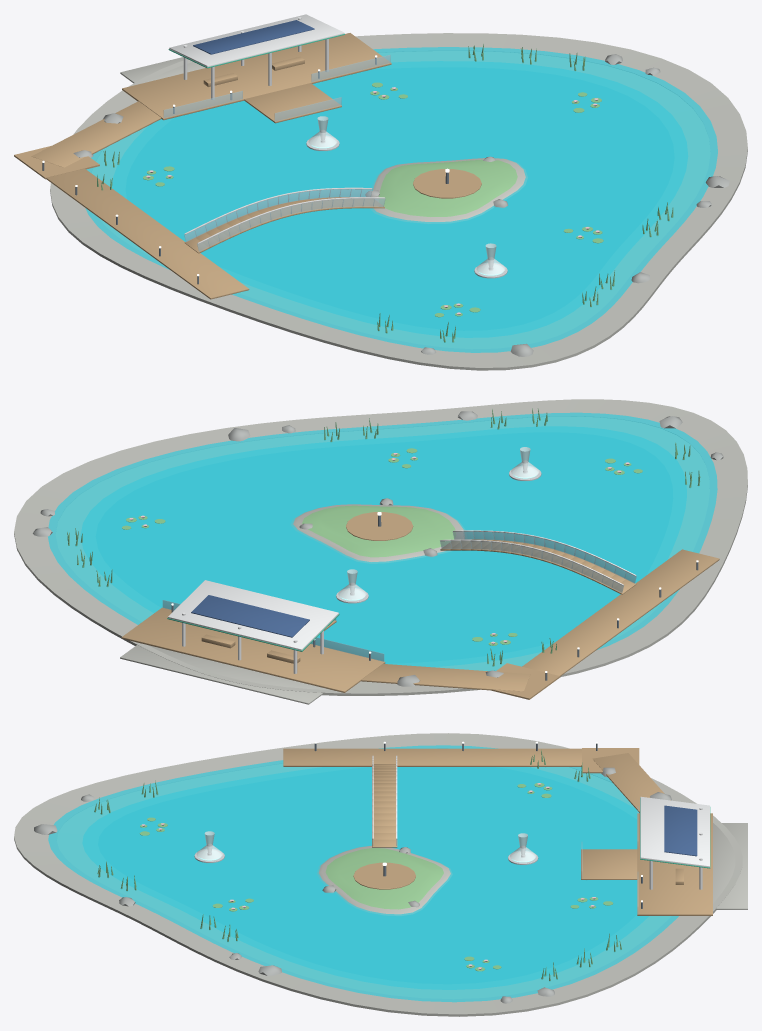
Rendered from west_lake_park.glb.
The picture shows the model from 3 angles, top to bottom: view 1: azimuth 30°, elevation 25°; view 2: azimuth 150°, elevation 25°; view 3: azimuth 270°, elevation 25°; orthographic projection. The views are drawn at different scales.
Parts seen in each view (by area): view 1: WL_WaterSurface, WL_BankStone, WL_BeachShelf, WL_NorthDeck, WL_WestWalk, WL_IslandTurf, WL_CornerLink, WL_PavCanopy, WL_PierFinger, WL_IslandStone, WL_IslandDeck, WL_PavSolar (+5 smaller); view 2: WL_WaterSurface, WL_BankStone, WL_BeachShelf, WL_NorthDeck, WL_WestWalk, WL_IslandTurf, WL_PavCanopy, WL_NorthApron, WL_CornerLink, WL_PavSolar, WL_IslandStone, WL_IslandDeck (+2 smaller); view 3: WL_WaterSurface, WL_BankStone, WL_BeachShelf, WL_WestWalk, WL_NorthDeck, WL_IslandTurf, WL_PavCanopy, WL_NorthApron, WL_CornerLink, WL_PierFinger, WL_PavSolar, WL_IslandStone (+2 smaller).
Part boxes in pixels (box(x1,y1,x2,y2)): WL_WaterSurface: box(85, 47, 717, 352); WL_BankStone: box(50, 33, 747, 370); WL_BeachShelf: box(92, 51, 710, 348); WL_NorthDeck: box(122, 33, 391, 120); WL_WestWalk: box(46, 168, 249, 299); WL_IslandTurf: box(378, 159, 517, 216); WL_CornerLink: box(31, 101, 161, 167); WL_PavCanopy: box(169, 14, 344, 67); WL_PierFinger: box(244, 83, 341, 123); WL_IslandStone: box(370, 158, 527, 223); WL_IslandDeck: box(413, 169, 481, 198); WL_PavSolar: box(193, 20, 314, 54); WL_WaterSurface: box(48, 412, 717, 671); WL_BankStone: box(14, 399, 747, 695); WL_BeachShelf: box(56, 417, 709, 670); WL_NorthDeck: box(121, 607, 385, 692); WL_WestWalk: box(522, 549, 719, 676); WL_IslandTurf: box(302, 505, 455, 557); WL_PavCanopy: box(168, 580, 338, 650); WL_NorthApron: box(120, 645, 327, 704); WL_CornerLink: box(361, 664, 530, 691); WL_PavSolar: box(191, 595, 309, 637); WL_IslandStone: box(291, 504, 464, 563); WL_IslandDeck: box(346, 512, 413, 540); WL_WaterSurface: box(48, 745, 678, 1002); WL_BankStone: box(14, 733, 742, 1016); WL_BeachShelf: box(57, 764, 670, 998); WL_WestWalk: box(283, 748, 581, 766); WL_NorthDeck: box(637, 813, 712, 915); WL_IslandTurf: box(325, 848, 443, 909); WL_PavCanopy: box(640, 796, 709, 867); WL_NorthApron: box(713, 823, 747, 909); WL_CornerLink: box(592, 753, 670, 812); WL_PierFinger: box(581, 849, 637, 879); WL_PavSolar: box(664, 805, 697, 856); WL_IslandStone: box(317, 845, 452, 915).
Bounding box in the file's own units: 72.22 × 4.92 × 79.63.
